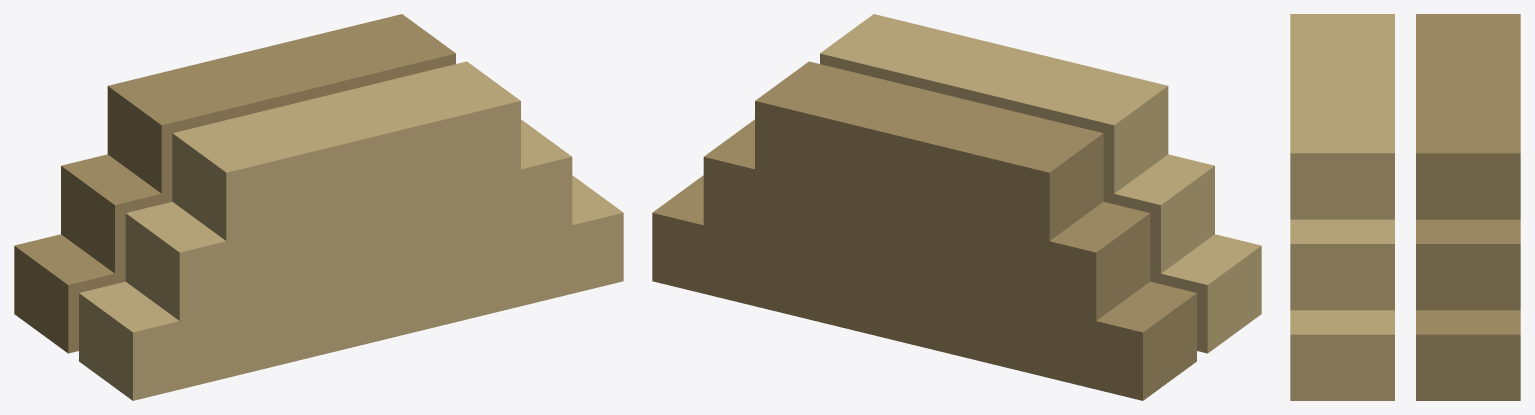
Rendered from sandbags.glb.
The picture shows the model from 3 angles, left to right: view 1: azimuth 30°, elevation 25°; view 2: azimuth 150°, elevation 25°; view 3: azimuth 270°, elevation 25°; orthographic projection. The views are drawn at different scales.
Visible parts, largest first — view 1: Sandbags; view 2: Sandbags; view 3: Sandbags.
Boxes of the visible parts, bbox=[...] form: Sandbags: bbox=[14, 14, 623, 400]; Sandbags: bbox=[652, 14, 1261, 400]; Sandbags: bbox=[1290, 14, 1520, 400].
Size of the model in its own units: 2.1 by 0.84 by 0.88.
